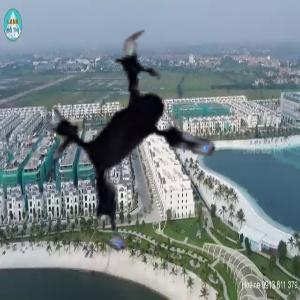drone: (19, 19, 269, 269)
